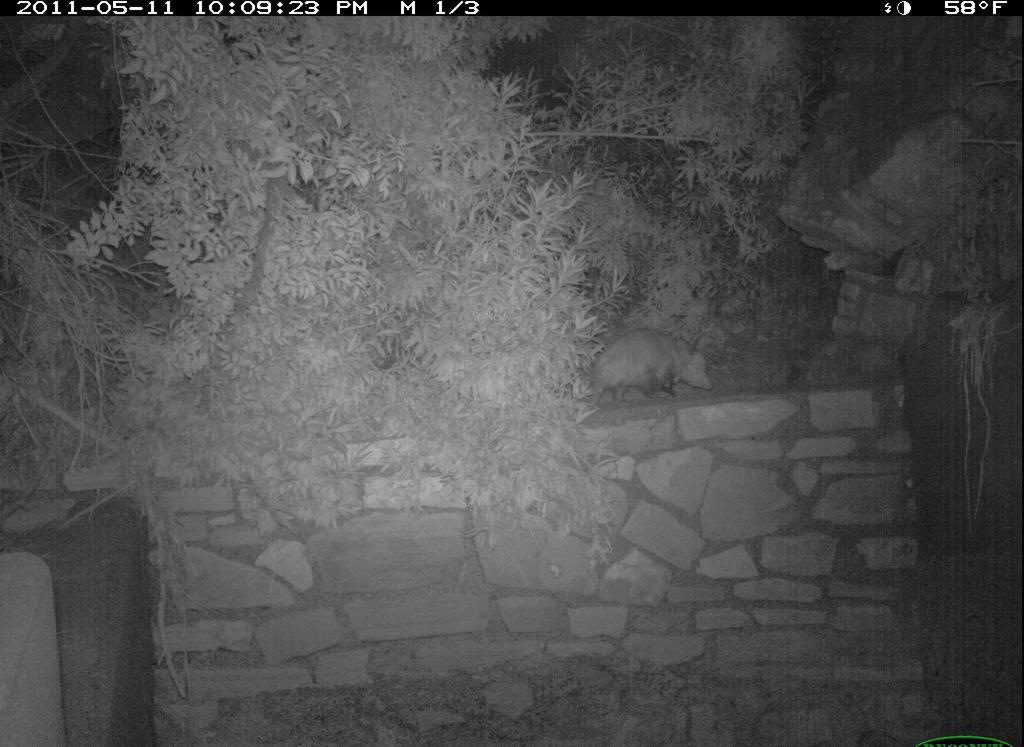opossum: (569, 319, 719, 413)
